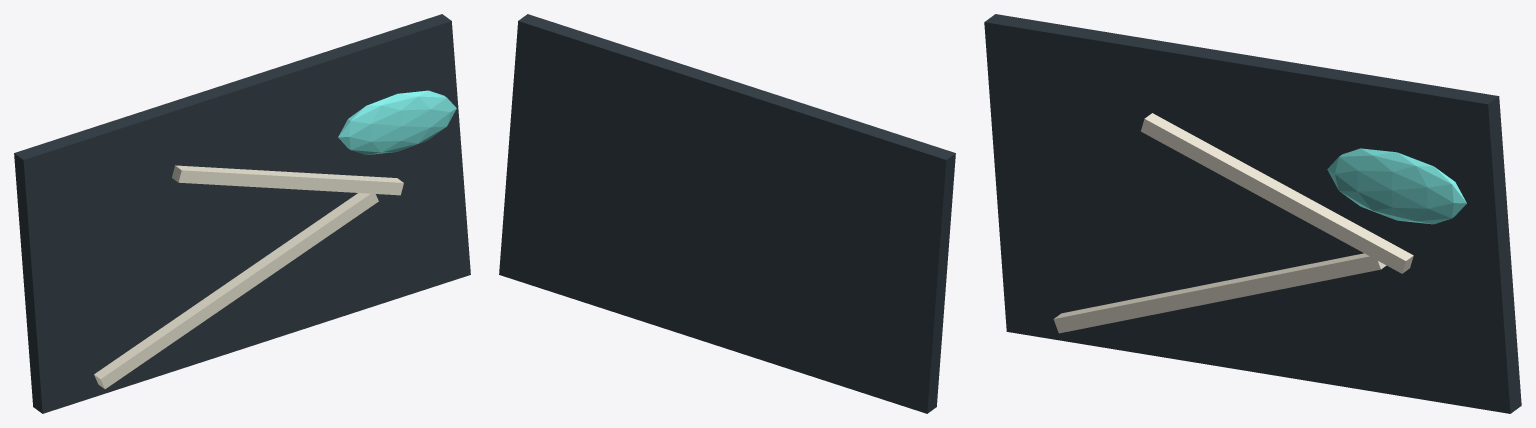
Rendered from 06_weathering_wear_overlay_6.glb.
The picture shows the model from 3 angles, left to right: view 1: azimuth 30°, elevation 25°; view 2: azimuth 150°, elevation 25°; view 3: azimuth 330°, elevation 25°; orthographic projection. The views are drawn at different scales.
Visible parts, largest first — view 1: wear_plate, scratch_a, rust_or_moss_spot, scratch_b; view 2: wear_plate; view 3: wear_plate, rust_or_moss_spot, scratch_b, scratch_a.
Boxes of the visible parts, x1,y1,x2,y2 form: wear_plate: [14, 14, 470, 413]; scratch_a: [94, 193, 378, 388]; rust_or_moss_spot: [338, 90, 456, 154]; scratch_b: [172, 165, 403, 195]; wear_plate: [499, 14, 955, 413]; wear_plate: [984, 14, 1521, 413]; rust_or_moss_spot: [1327, 148, 1466, 224]; scratch_b: [1141, 113, 1413, 273]; scratch_a: [1053, 253, 1386, 333].
Bounding box in the file's own units: 1.35 × 0.848 × 0.134.
